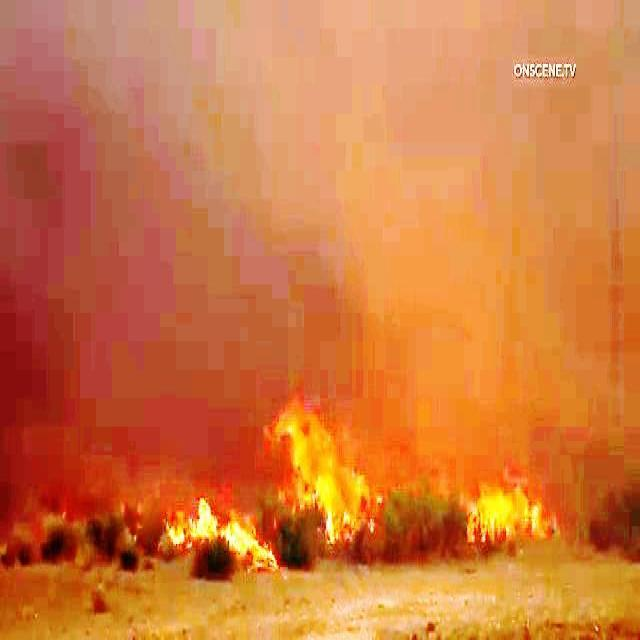Fire: (250, 390, 453, 550), (154, 444, 276, 584), (472, 420, 546, 560)
Smoke: (0, 4, 246, 338), (255, 10, 492, 298)
